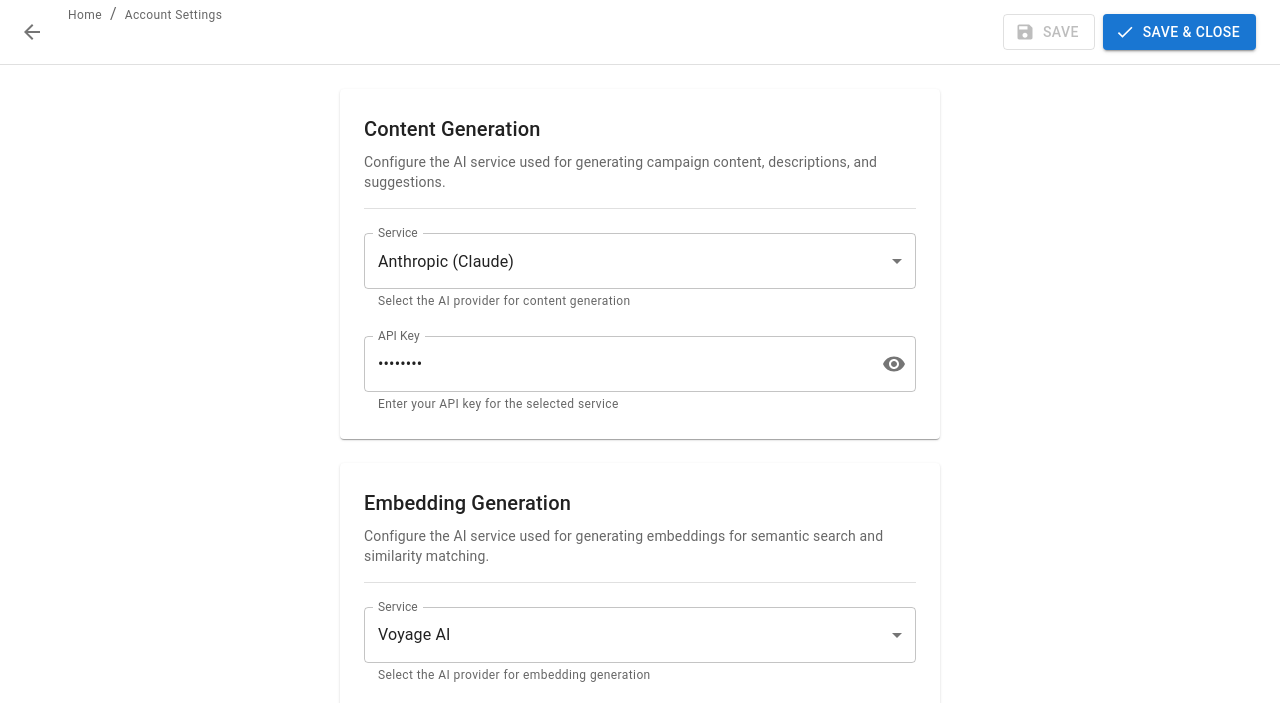
Test: AccountSettings › should toggle API key visibility
Click the first toggle
Click the 1st button named "show api key". click: (894, 364)
box: [874,344,914,384]
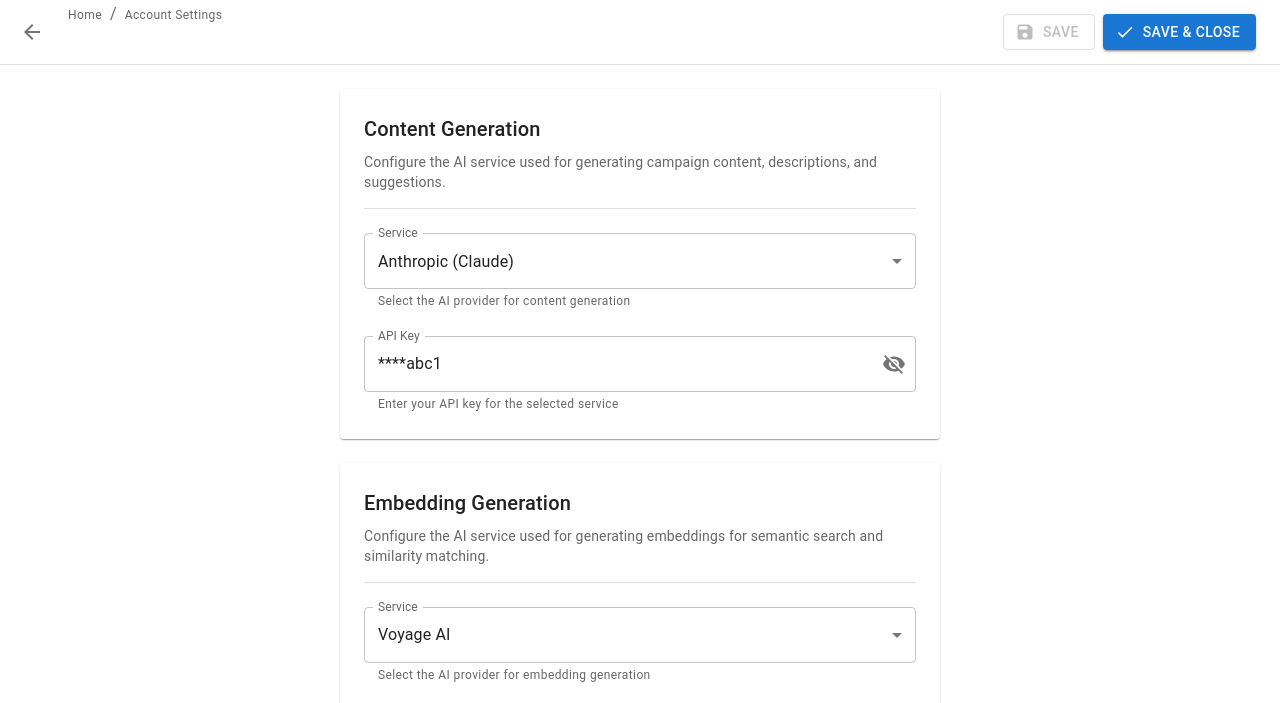
Expected: the button named "hide api key" is shown, [874,344,914,384]
